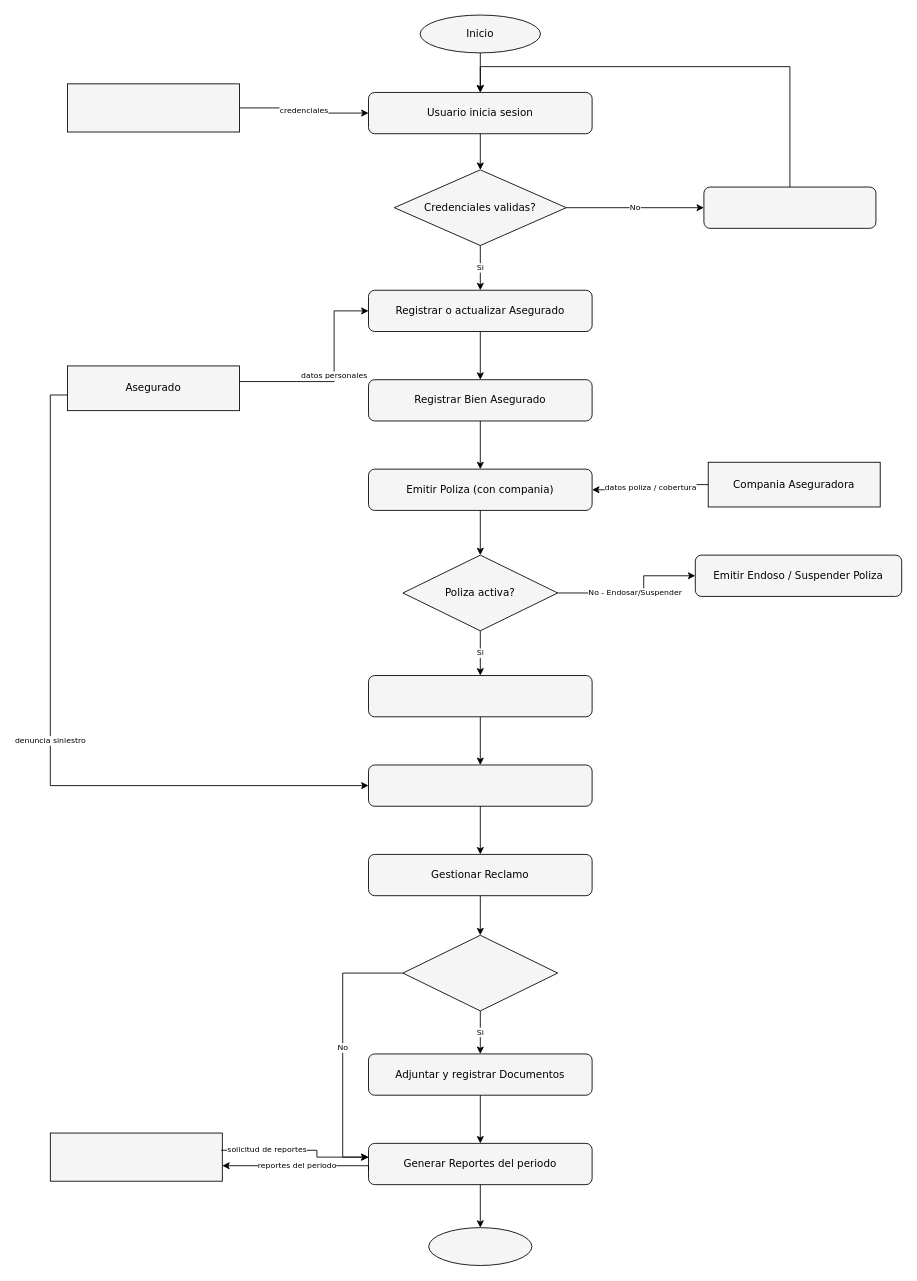
The diagram is 917 pixels wide and 1281 high, and some of its shapes have lost their labels. Here are the shapes that lost their labels. From the top down, the centre of each, then its label:
the point at 153,107: Usuario del sistema (Organizador / Productor)
the point at 789,207: Mostrar error de acceso
the point at 480,696: Generar y gestionar Cuotas
the point at 480,785: Registrar Siniestro
the point at 480,972: Documentar tramite?
the point at 135,1156: Organizador / Productor
the point at 480,1246: Fin
